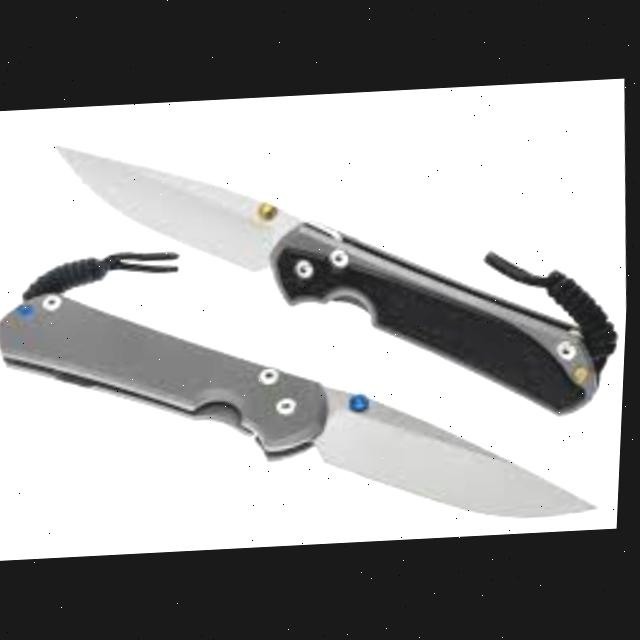knife: (45, 111, 631, 440), (0, 255, 614, 546)
